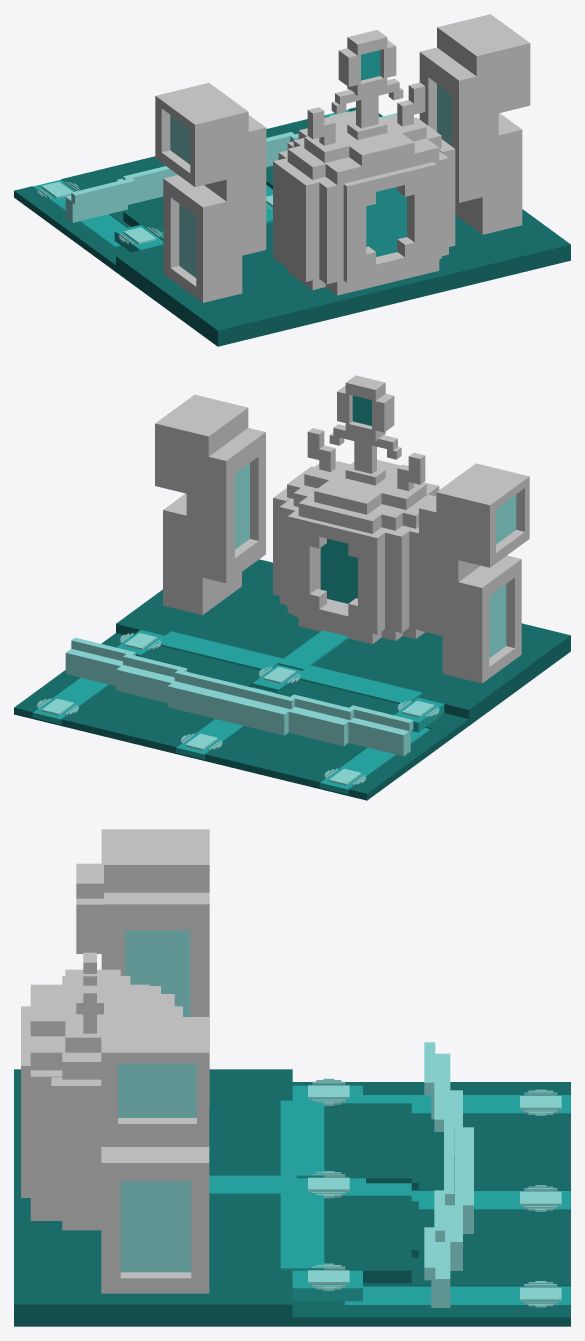
Rendered from future.fbx.
The picture shows the model from 3 angles, top to bottom: view 1: azimuth 30°, elevation 25°; view 2: azimuth 150°, elevation 25°; view 3: azimuth 270°, elevation 25°; orthographic projection. The views are drawn at different scales.
Parts seen in each view (by area): view 1: cube_2, cube_82, cube_21, cube_96, cube_102, cube_108, cube_85, cube_91, cube_1, cube_38, cube_49, cube_48 (+41 smaller); view 2: cube_2, cube_79, cube_10, cube_12, cube_101, cube_78, cube_107, cube_113, cube_68, cube_80, cube_1, cube_34 (+49 smaller); view 3: cube_2, cube_10, cube_12, cube_156, cube_20, cube_157, cube_89, cube_8, cube_95, cube_105, cube_93, cube_112 (+44 smaller).
Part boxes in pixels (x1,y1,x2,y2): cube_2: [116, 209, 570, 342]; cube_82: [452, 71, 498, 202]; cube_21: [273, 158, 319, 281]; cube_96: [196, 197, 242, 302]; cube_102: [218, 121, 266, 258]; cube_108: [190, 108, 248, 187]; cube_85: [475, 124, 522, 234]; cube_91: [470, 39, 530, 116]; cube_1: [14, 186, 236, 345]; cube_38: [278, 150, 343, 284]; cube_49: [407, 162, 436, 265]; cube_48: [343, 179, 366, 282]; cube_2: [116, 559, 570, 721]; cube_79: [186, 450, 234, 583]; cube_10: [205, 726, 366, 787]; cube_12: [61, 684, 214, 752]; cube_101: [442, 577, 489, 683]; cube_78: [163, 505, 209, 614]; cube_107: [419, 503, 465, 637]; cube_113: [436, 488, 495, 567]; cube_68: [167, 681, 290, 735]; cube_80: [155, 420, 213, 498]; cube_1: [348, 645, 570, 798]; cube_34: [287, 511, 317, 617]; cube_2: [14, 1069, 292, 1322]; cube_10: [411, 1113, 570, 1190]; cube_12: [363, 1209, 570, 1286]; cube_156: [324, 1195, 411, 1283]; cube_20: [51, 1077, 101, 1217]; cube_157: [324, 1103, 411, 1183]; cube_89: [120, 1181, 191, 1272]; cube_8: [14, 1305, 570, 1324]; cube_95: [118, 1063, 196, 1117]; cube_105: [125, 930, 190, 1016]; cube_93: [118, 1017, 196, 1063]; cube_112: [114, 829, 192, 875].
Size of what is drawn, in the model's own units: 2512 by 1672 by 2512.
5 materials, 5 textured.
